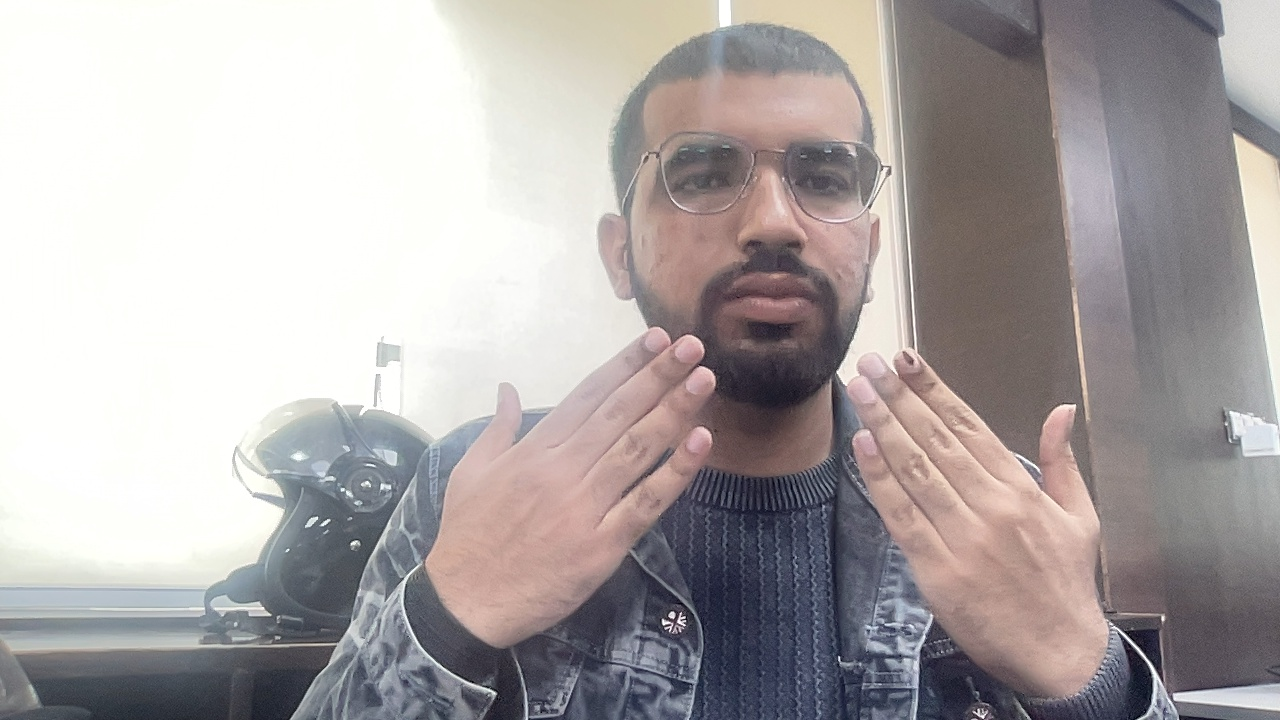Thank You: (281, 328, 1178, 688)
